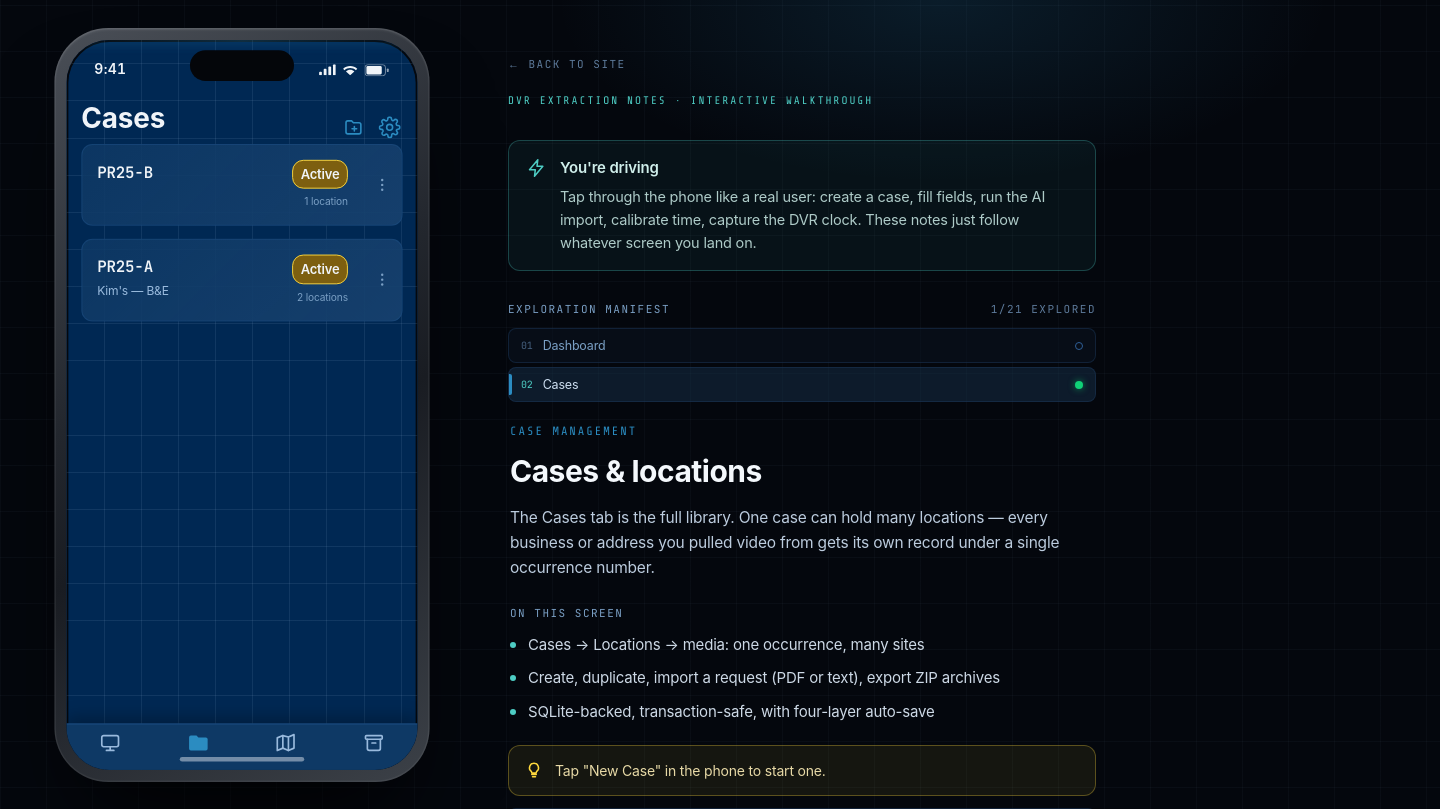
DemoExperience — delete a location › omits the Address row for a location with no address
This screenshot has width=1440, height=809.
Step 1. Click the button "PR25-A Kim's — B&E Active 2 locations" → {"x": 125, "y": 267}, box [82, 240, 363, 320]
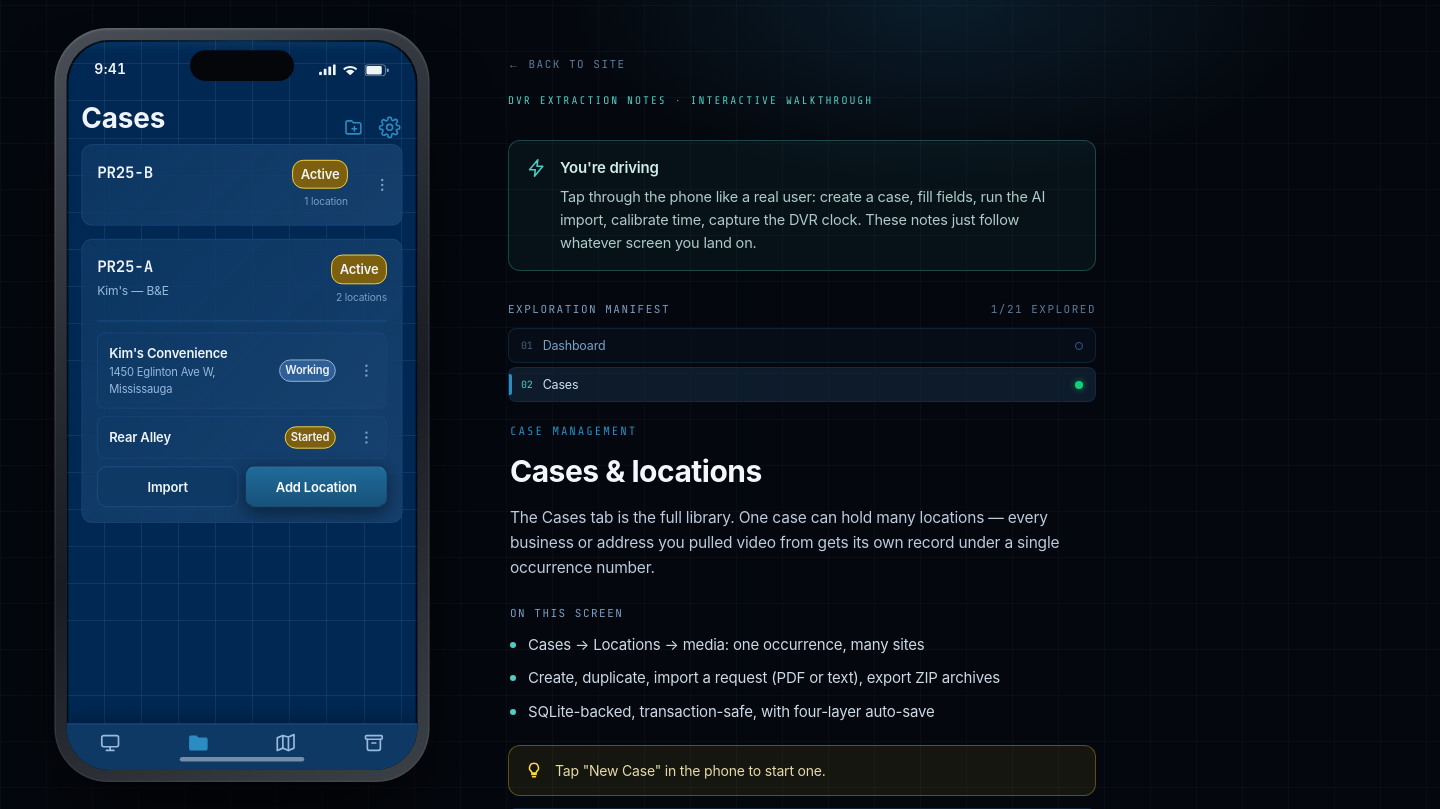
Step 2. Click the button named "Actions for location Rear Alley" → {"x": 366, "y": 438}, box [347, 417, 386, 458]
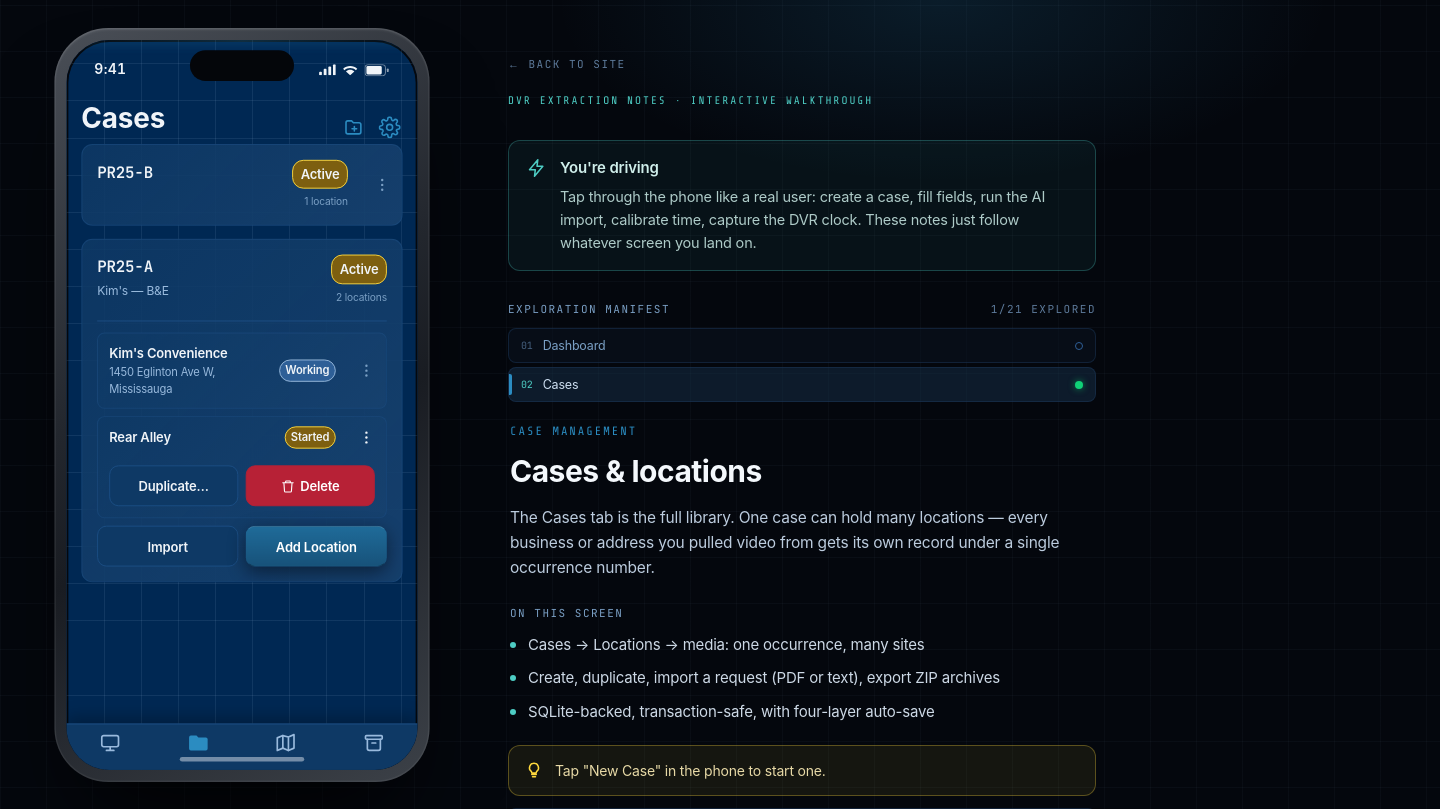
Step 3. Click the button "Delete" → {"x": 310, "y": 486}, box [246, 466, 375, 506]
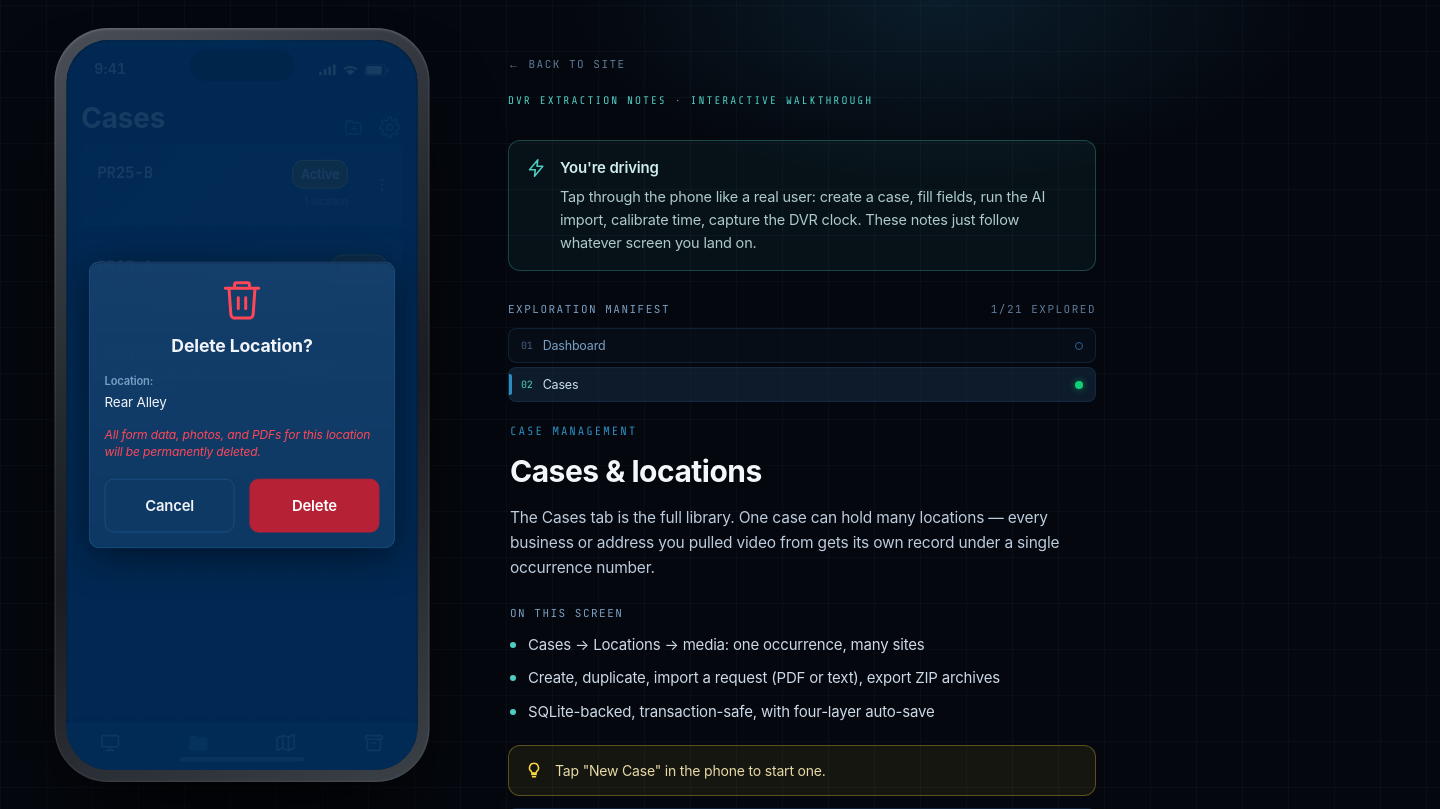
Result: the text "Delete Location?" is shown at [171, 336, 313, 357]
